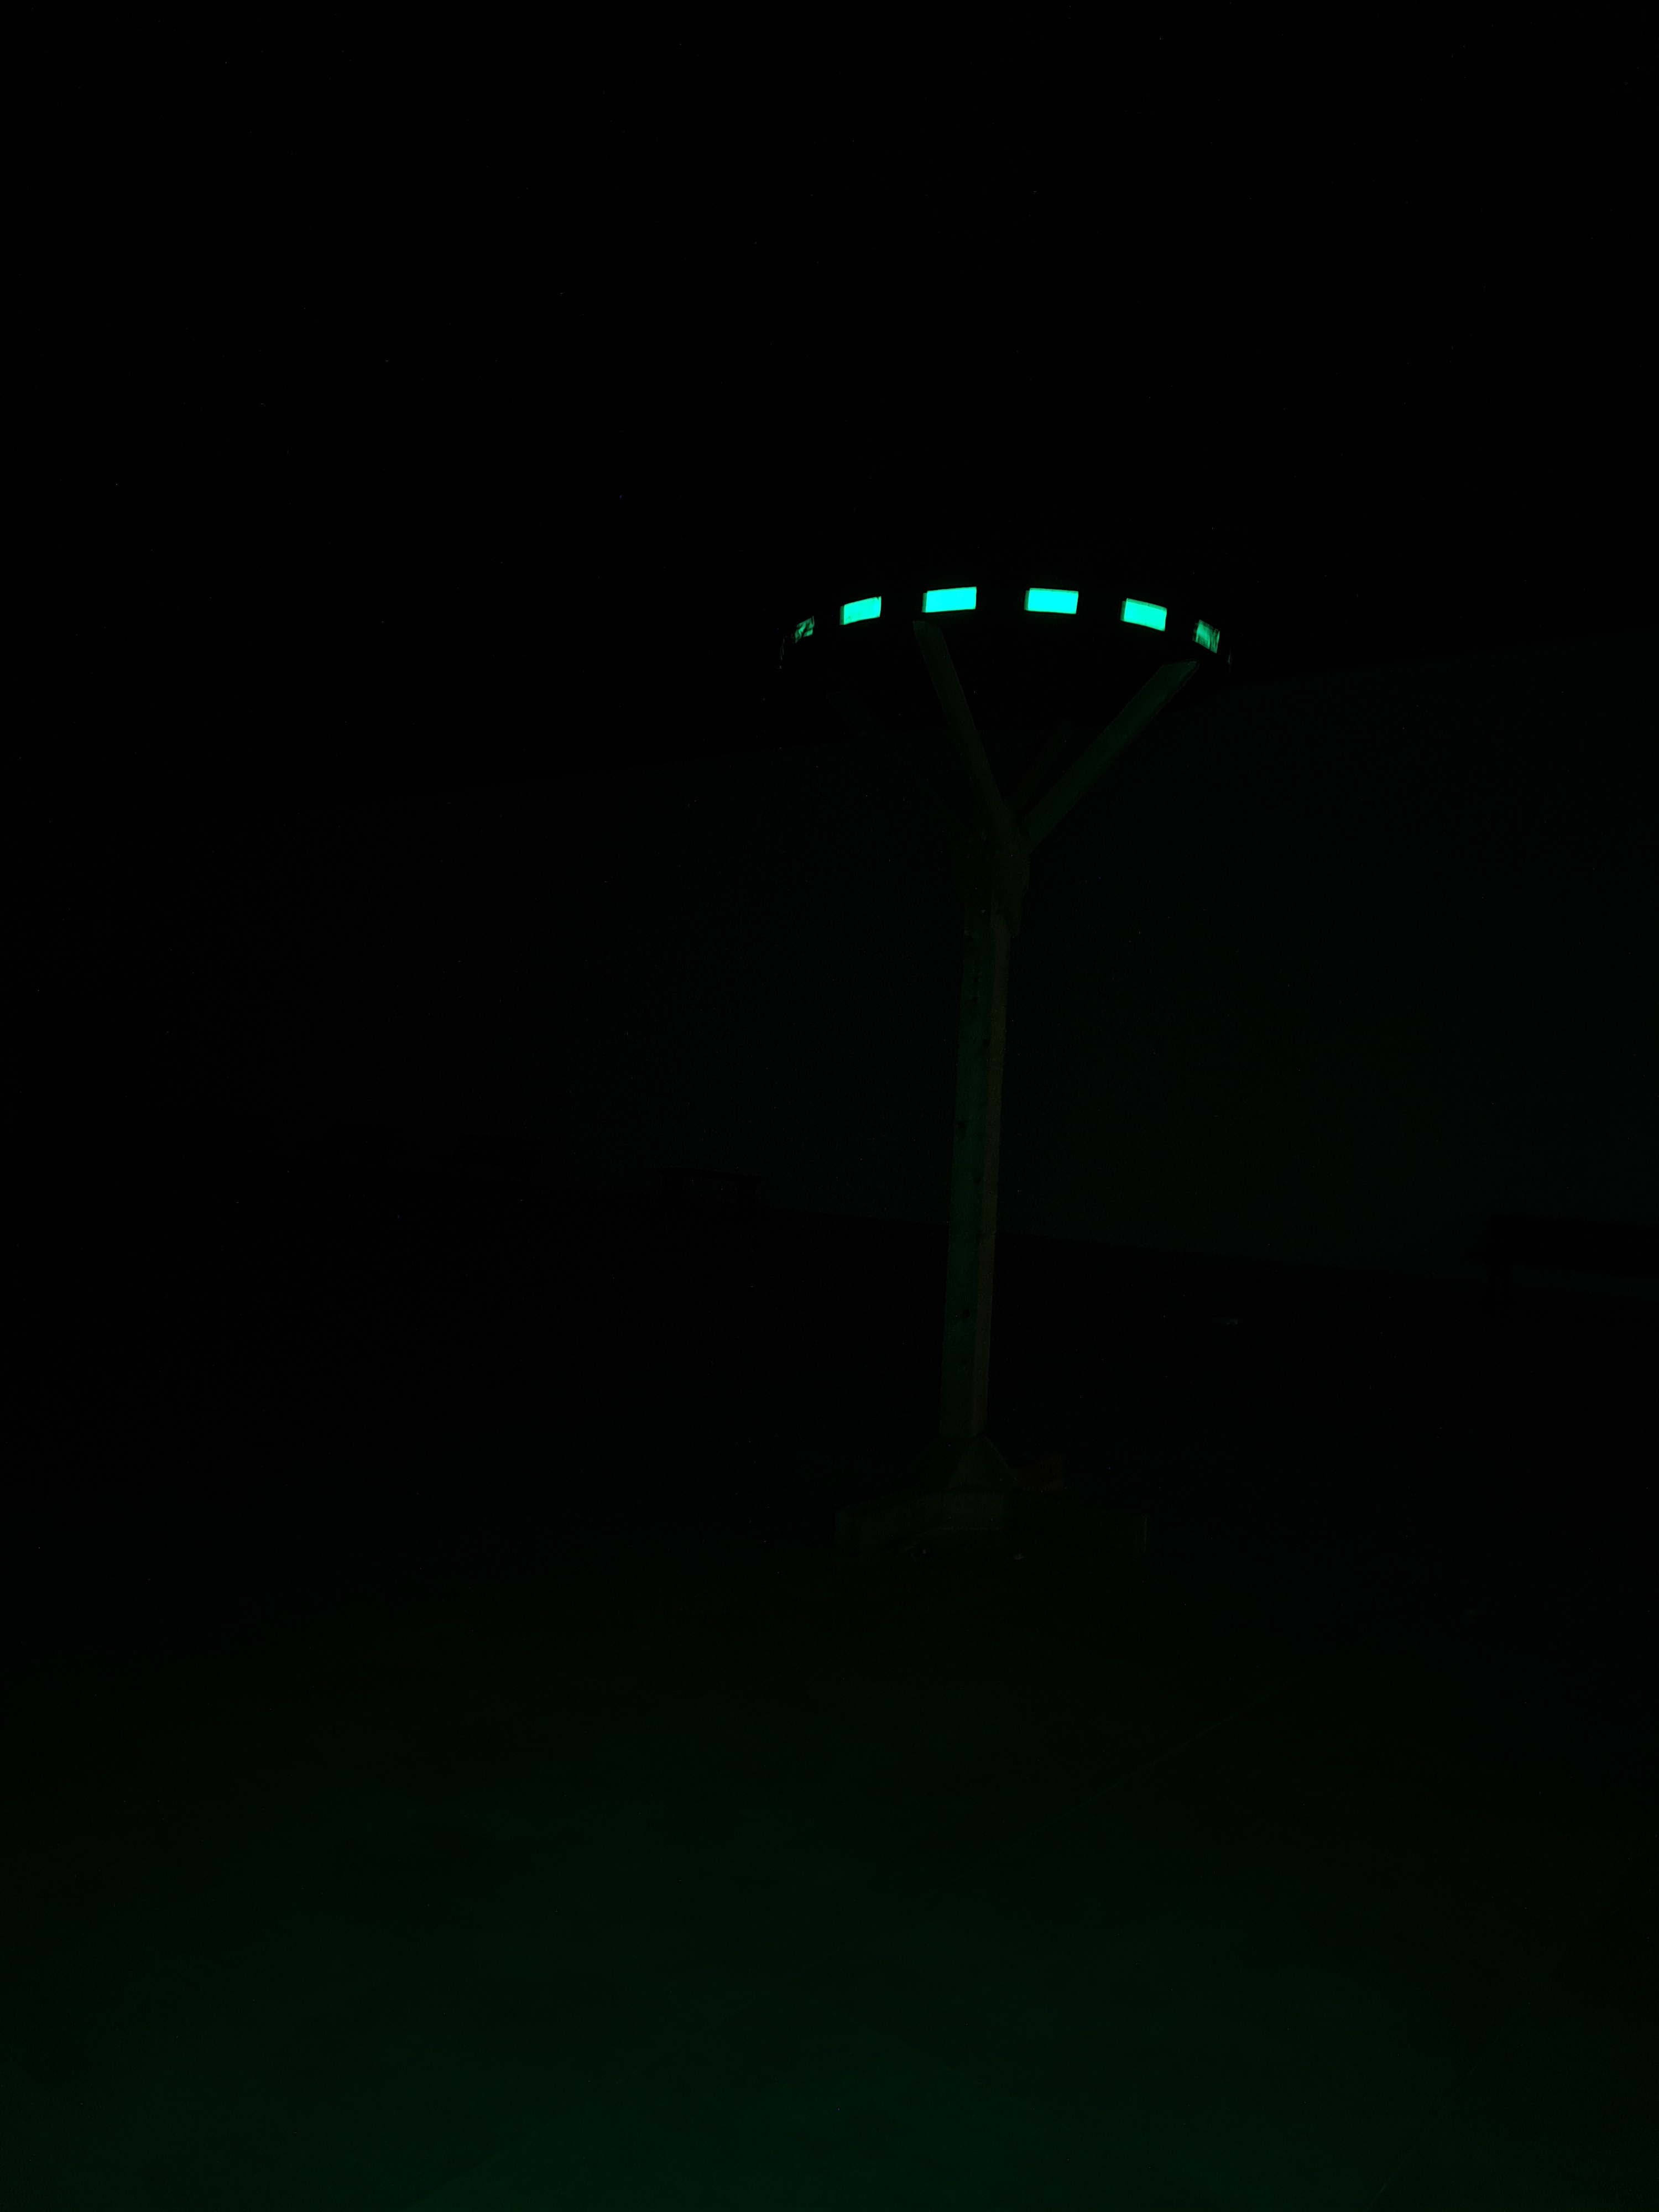hoop: (786, 582, 1223, 657)
